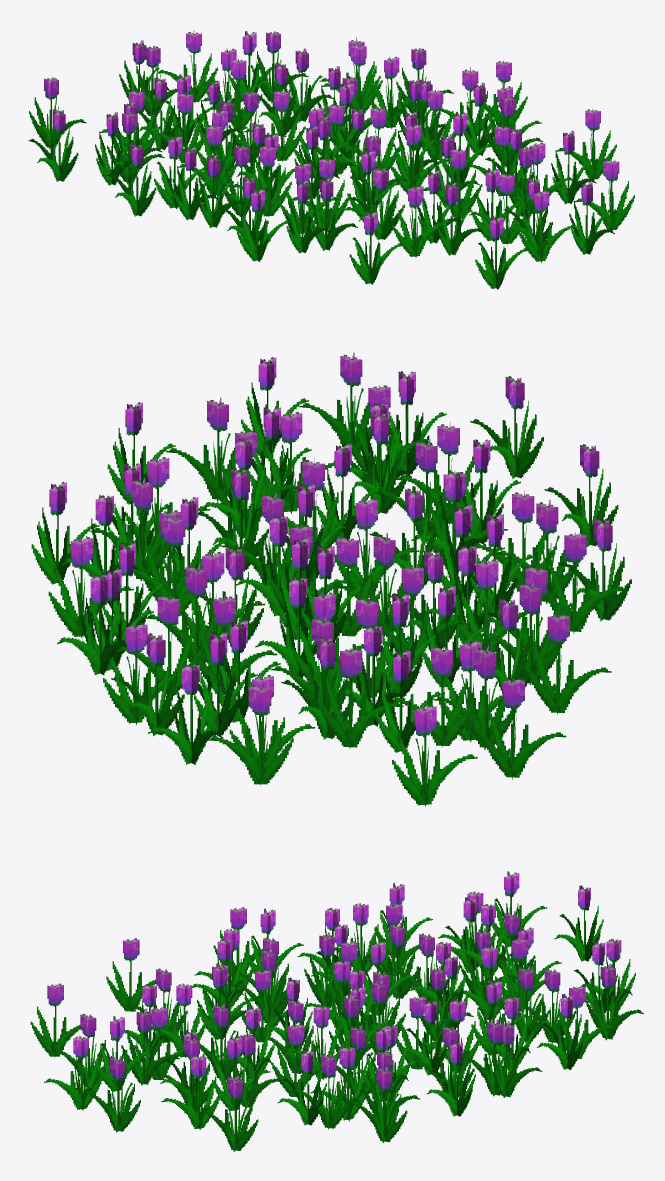
Rendered from HTOWN01_TULIPPURP01.fbx.
3 renders of one model, top to bottom at view 1: azimuth 30°, elevation 25°; view 2: azimuth 150°, elevation 25°; view 3: azimuth 270°, elevation 25°, orthographic. The views are drawn at different scales.
Parts seen in each view (by area): view 1: HTOWN01_TULIPPURP01; view 2: HTOWN01_TULIPPURP01; view 3: HTOWN01_TULIPPURP01.
Boxes of the visible parts, x1,y1,x2,y2 form: HTOWN01_TULIPPURP01: (28,30,634,289); HTOWN01_TULIPPURP01: (31,352,631,806); HTOWN01_TULIPPURP01: (30,871,643,1151).
Size of the model in its own units: 34018 by 5000 by 38849.
1 material, 1 textured.
